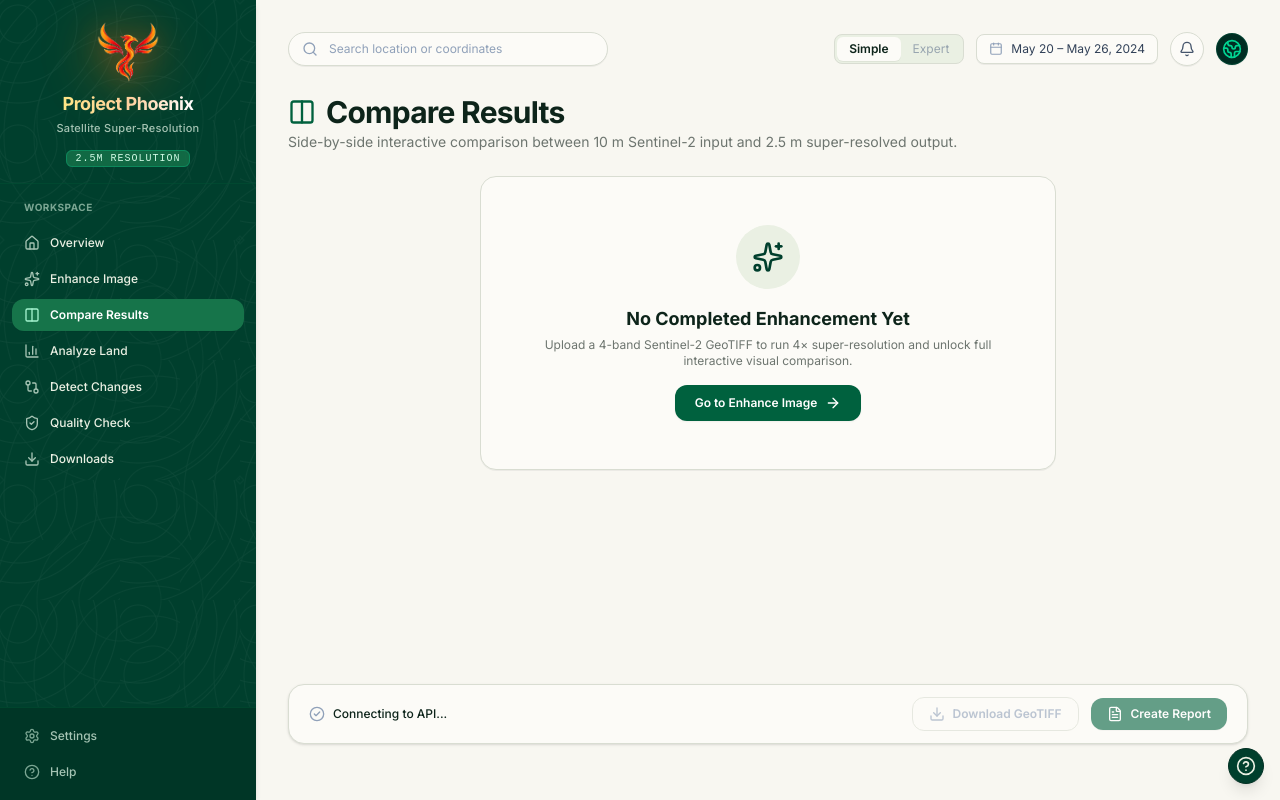
Test: Project Phoenix Frontend Full Page & Navigation Integration Tests › Detect Changes page requires 2 completed live observations and displays valid paired denominator
The image size is (1280, 800).
Expected: the text "2.5m Resolution" is shown, [66,150,190,166]
Click the button "Detect Changes": click(128, 386) [12,370,244,402]
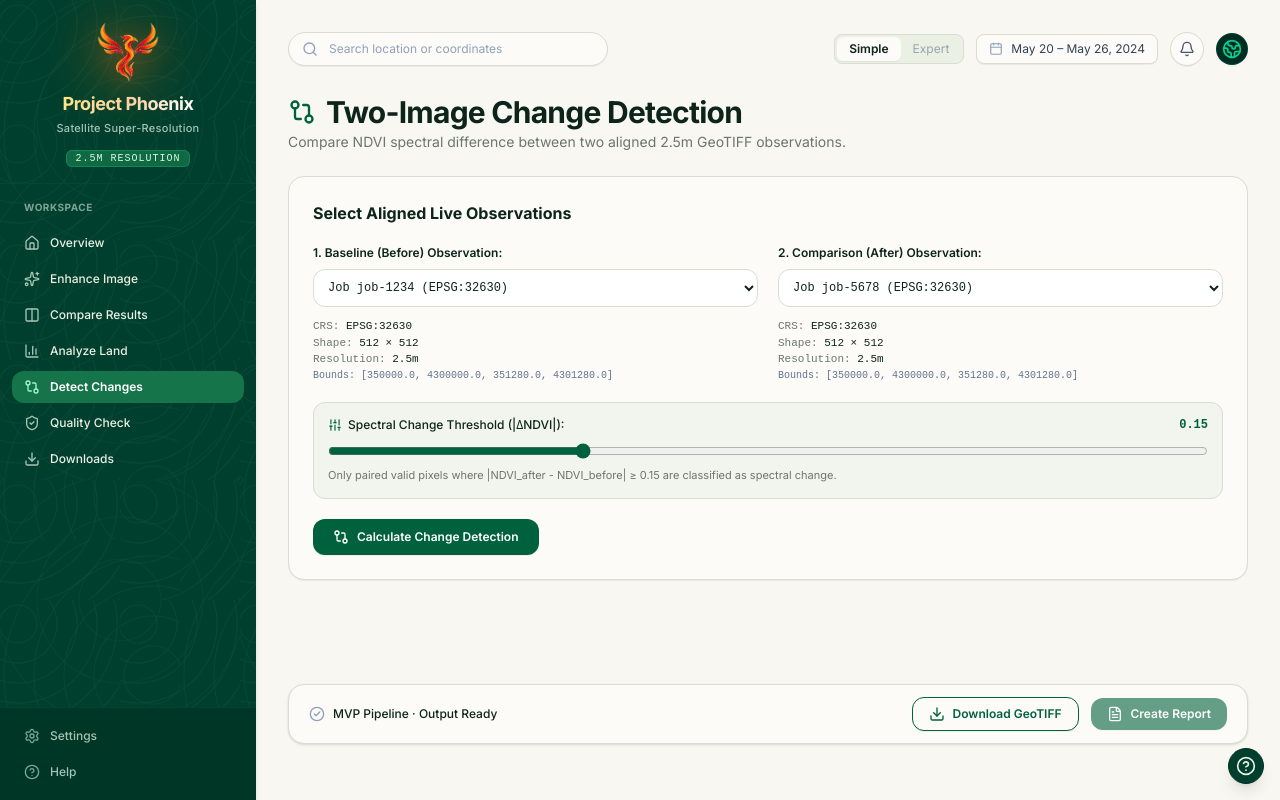
Result: the button "Calculate Change Detection" is shown
Click the button "Calculate Change Detection": click(426, 537) [313,519,538,555]
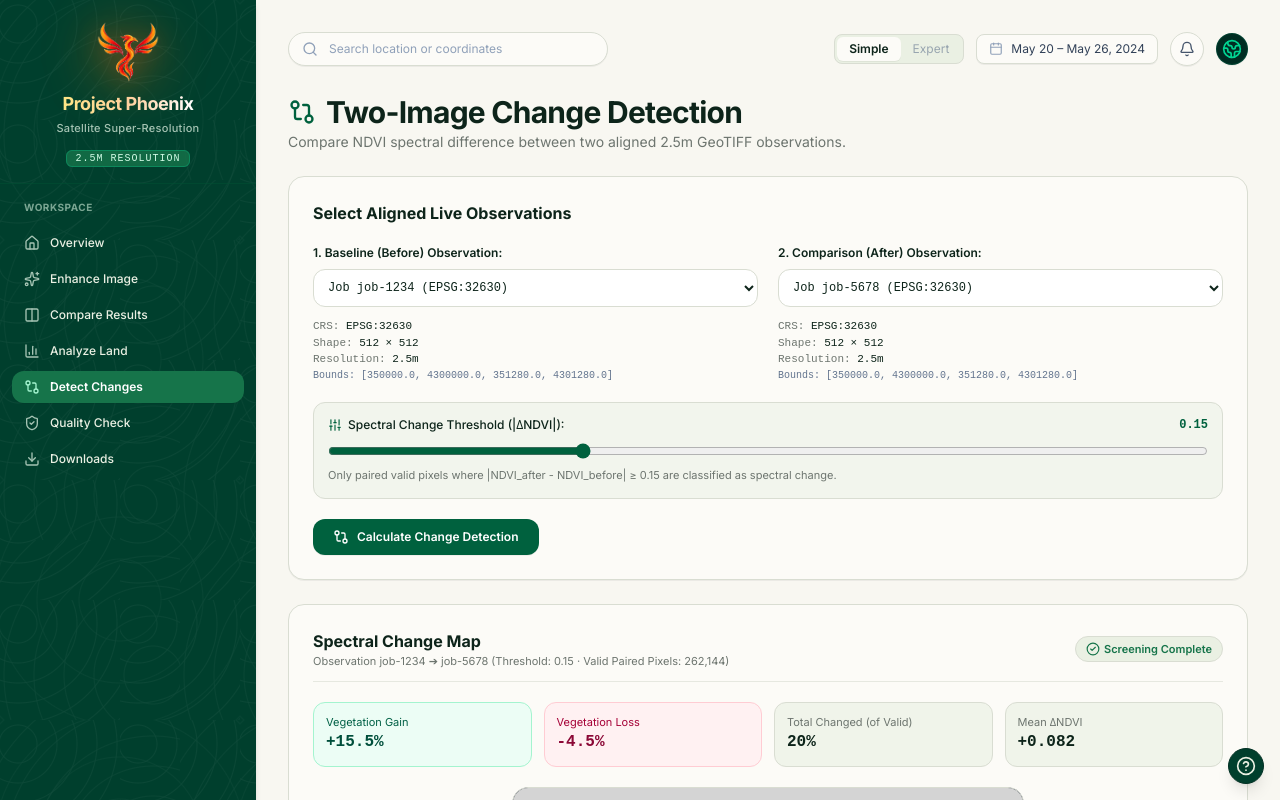
Result: the text "+15.5%" is shown at [326,733,384,751]
Result: the text "-4.5%" is shown at [556,733,604,751]
Result: the text "20%" is shown at [787,733,816,751]
